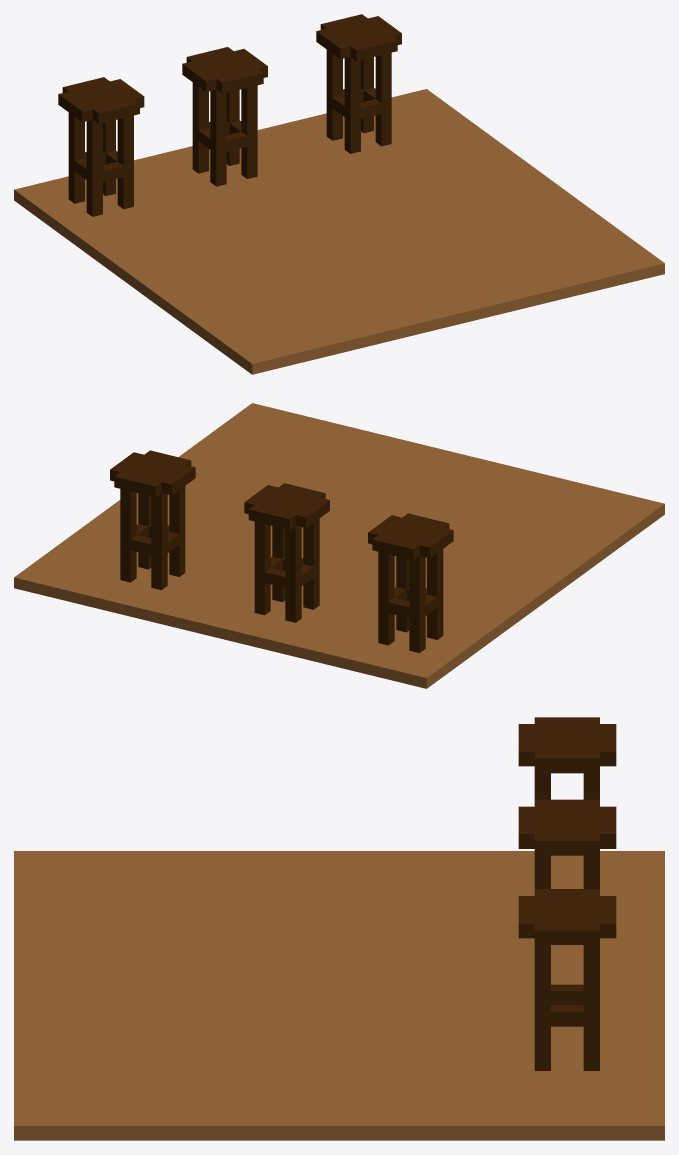
Rendered from saloon-4.obj.
3 renders of one model, top to bottom at view 1: azimuth 30°, elevation 25°; view 2: azimuth 150°, elevation 25°; view 3: azimuth 270°, elevation 25°, orthographic. The views are drawn at different scales.
Size of the model in its own units: 4 by 1.1 by 4.
Materials: 1 (1 with a texture image).
